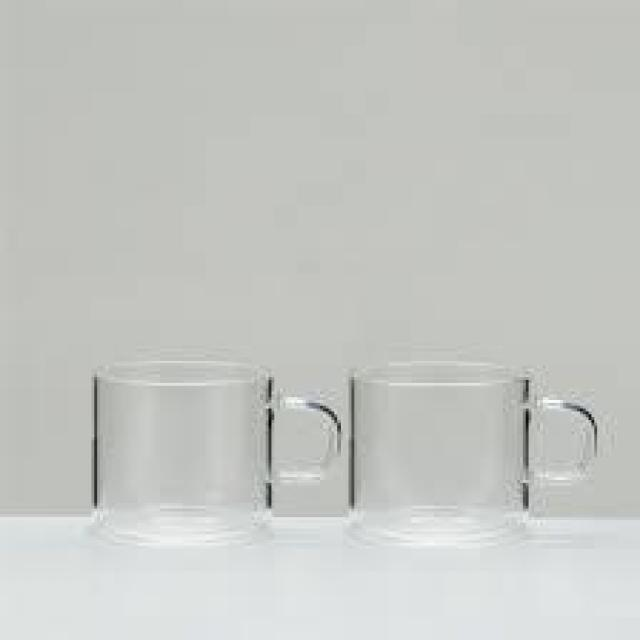glass: (91, 361, 343, 550)
